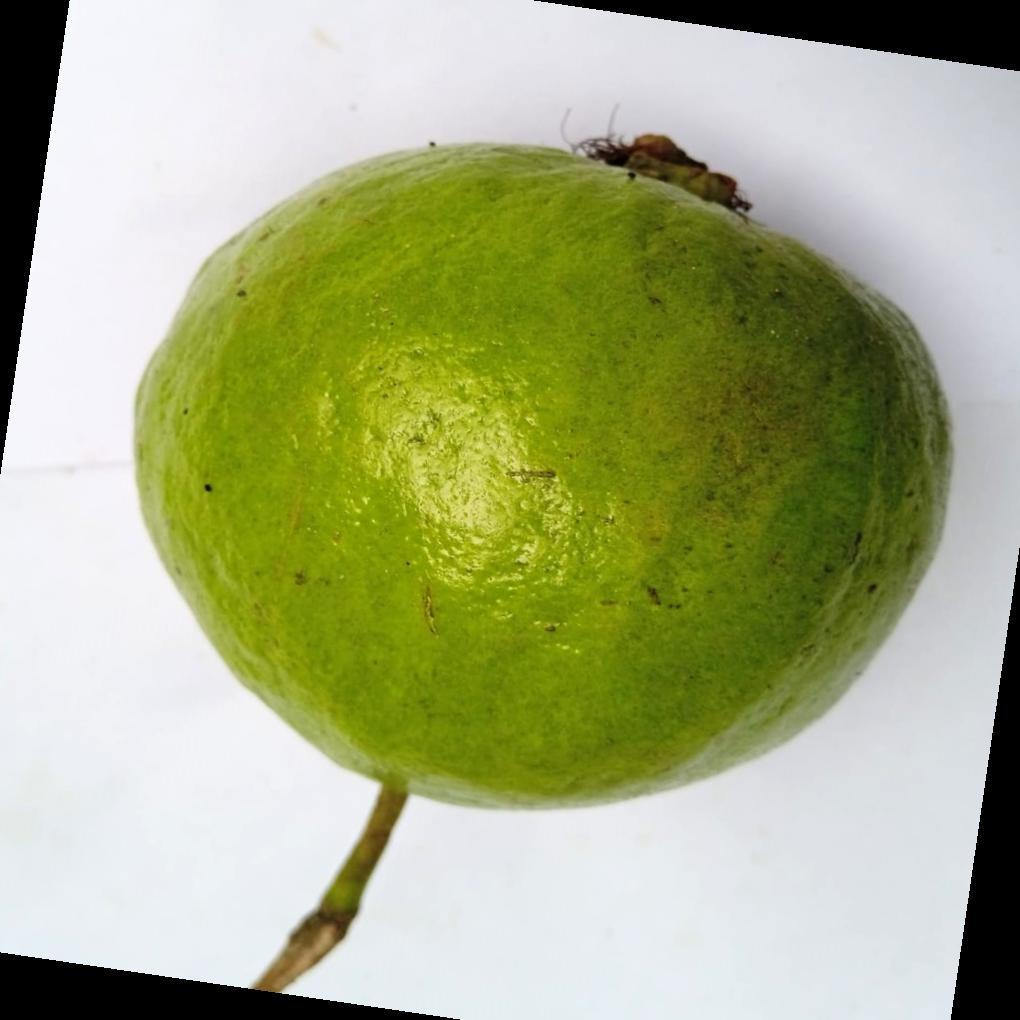FreshGuava: (131, 137, 953, 938)
